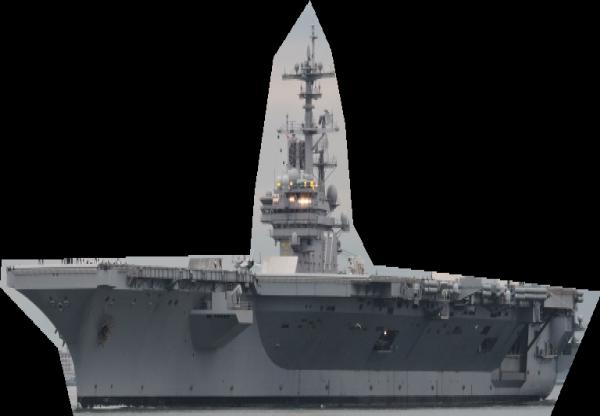Aircraft Carrier: (0, 1, 600, 416)
